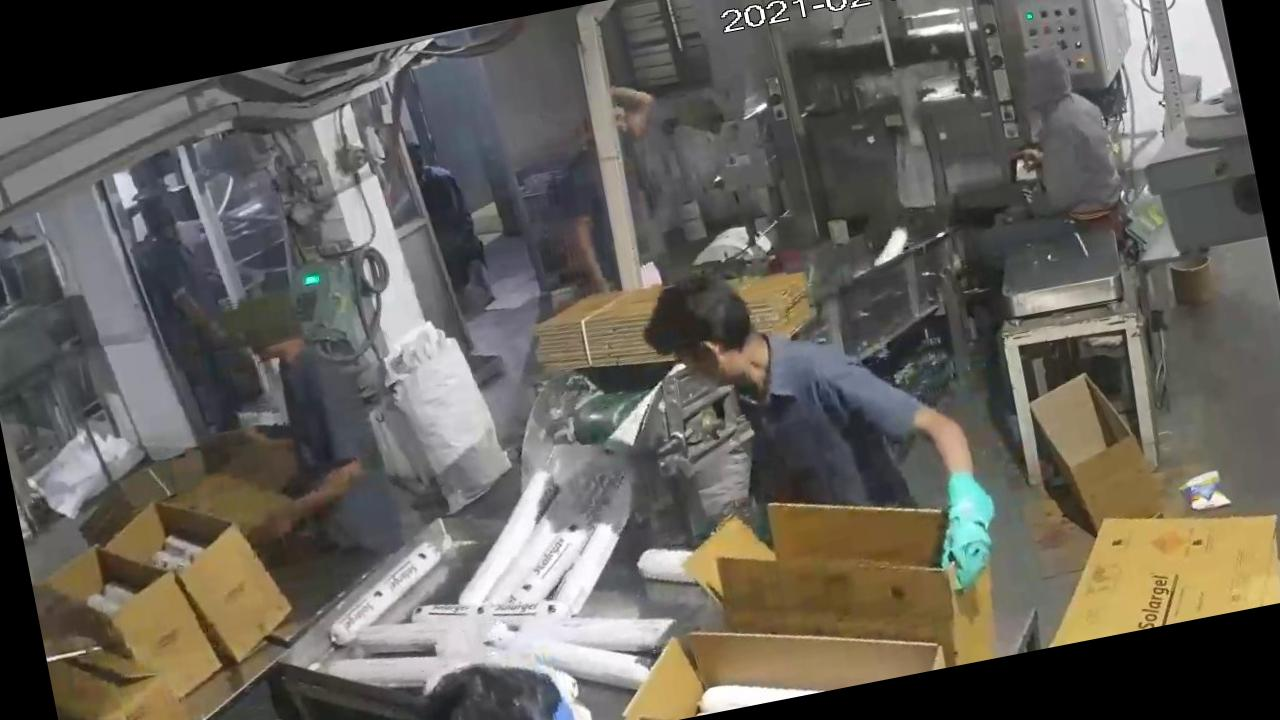Gloves: (904, 438, 1034, 622)
No-gloves: (212, 428, 399, 548), (562, 194, 634, 303), (600, 67, 670, 164)
